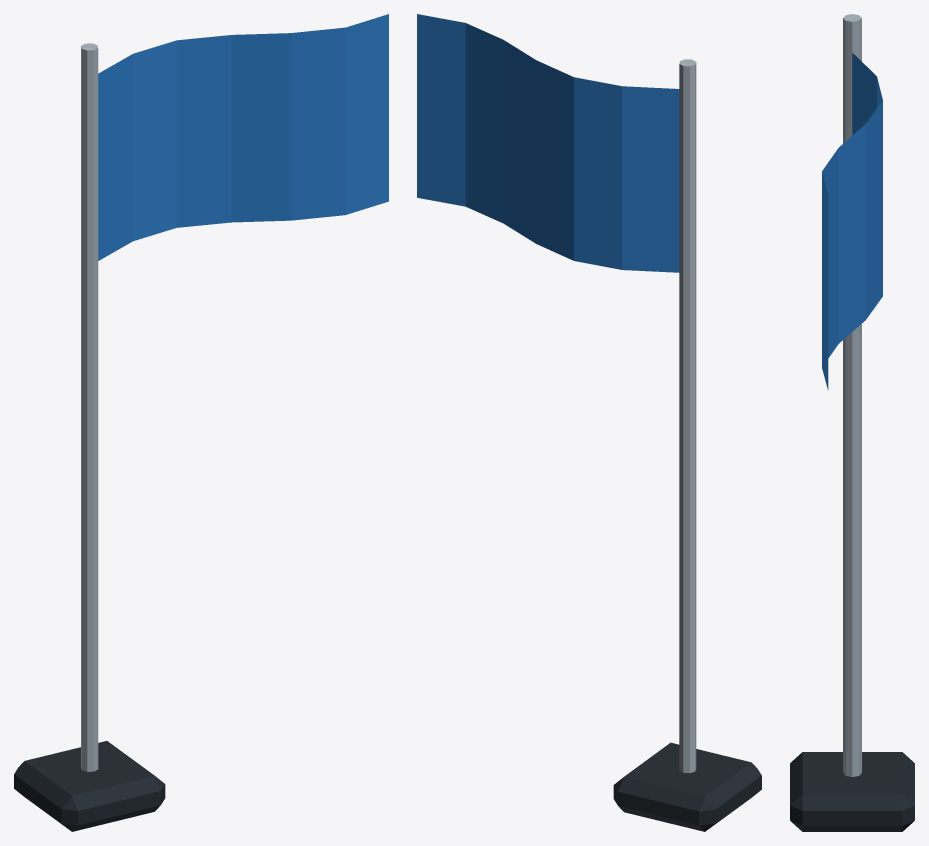
Rendered from flag_blue.glb.
The picture shows the model from 3 angles, left to right: view 1: azimuth 30°, elevation 25°; view 2: azimuth 150°, elevation 25°; view 3: azimuth 270°, elevation 25°; orthographic projection. The views are drawn at different scales.
Parts seen in each view (by area): view 1: flag_blue__static; view 2: flag_blue__static; view 3: flag_blue__static.
Boxes of the visible parts, bbox=[...] form: flag_blue__static: bbox=[14, 14, 388, 831]; flag_blue__static: bbox=[417, 14, 761, 831]; flag_blue__static: bbox=[790, 14, 914, 831].
Bounding box in the file's own units: 1.97 × 4.2 × 0.6.
